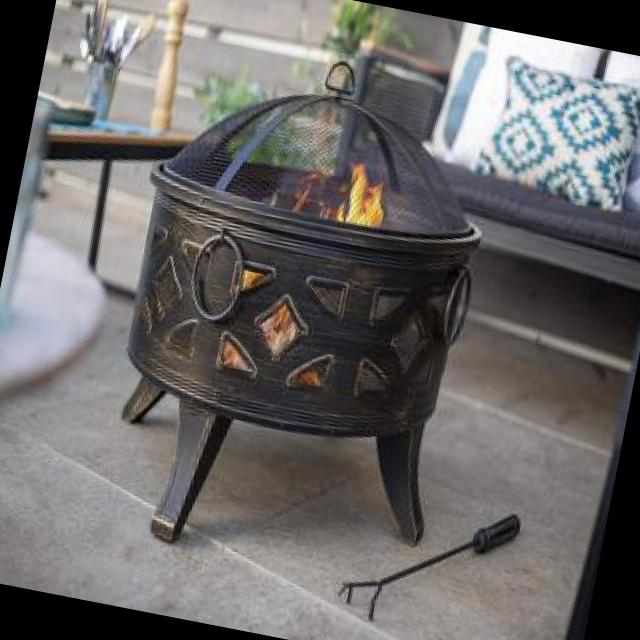Fire: (328, 152, 399, 245)
